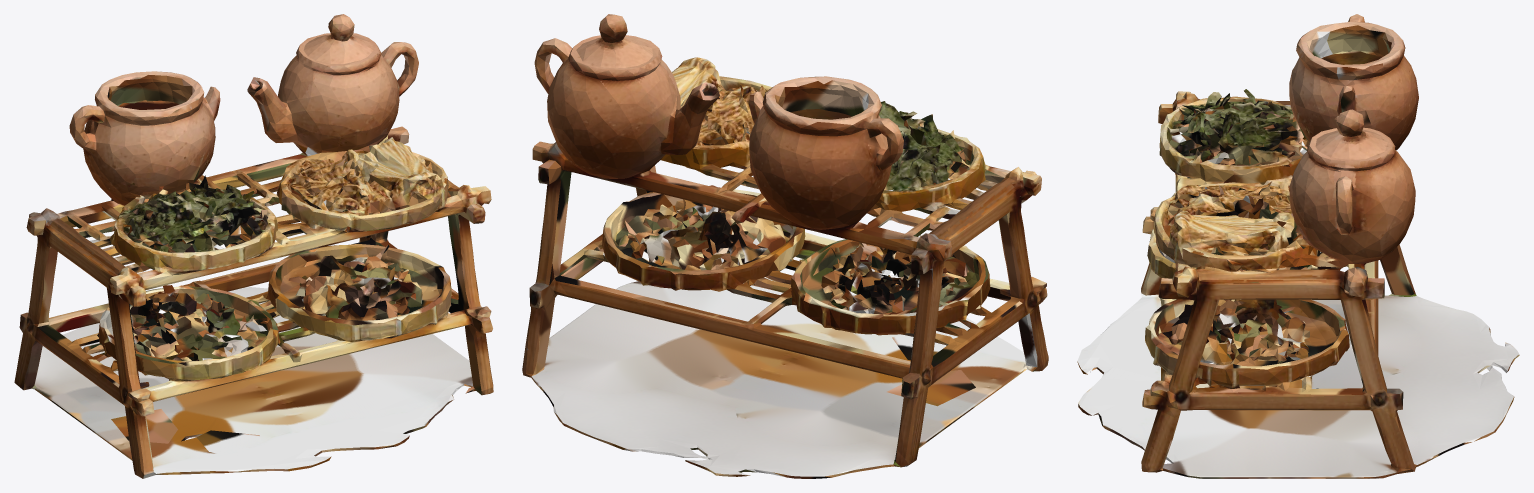
File: traveler_env_coast_cakon_tomie_herb_rack_00001_.glb
3 views of the same model, side by side, from view 1: azimuth 30°, elevation 25°; view 2: azimuth 150°, elevation 25°; view 3: azimuth 270°, elevation 25° (orthographic). The views are drawn at different scales.
Parts seen in each view (by area): view 1: temp_mesh.ply; view 2: temp_mesh.ply; view 3: temp_mesh.ply.
Part boxes in pixels (bbox=[...]): temp_mesh.ply: bbox=[14, 14, 493, 478]; temp_mesh.ply: bbox=[522, 14, 1048, 478]; temp_mesh.ply: bbox=[1077, 14, 1519, 478].
Size of the model in its own units: 1.74 by 1.39 by 1.66.
Materials: 1 (1 with a texture image).
